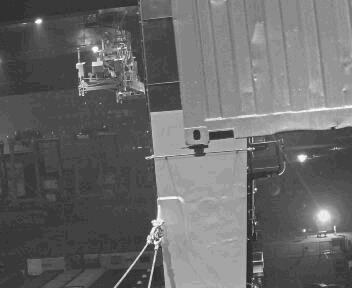twist_lock_1: (189, 138, 216, 161)
